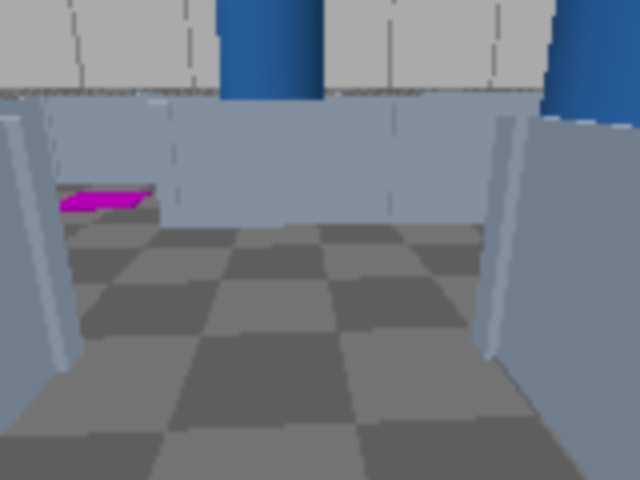goal_zone: (46, 191, 152, 211)
person: (528, 0, 638, 317)
